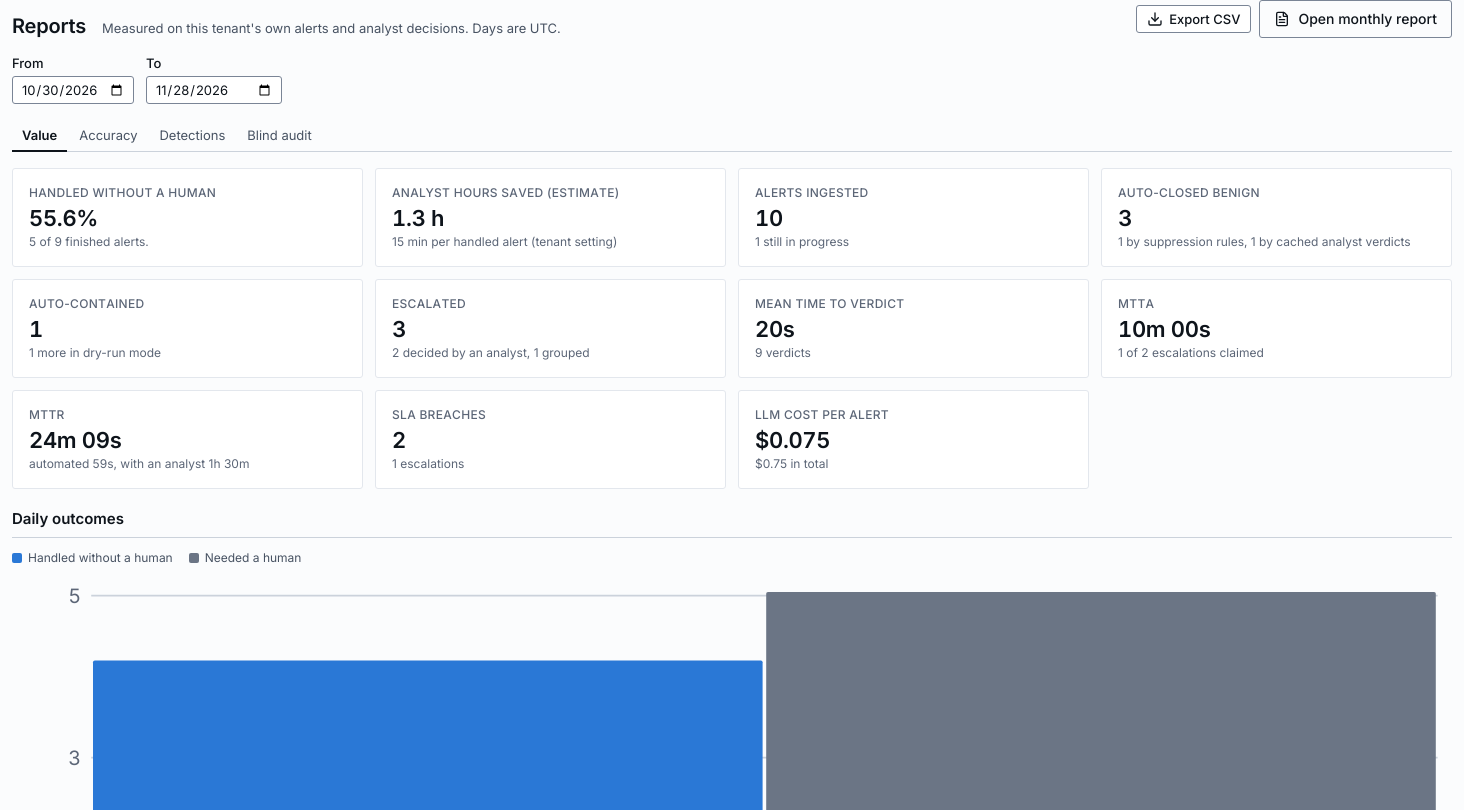
Test: ReportsPage › lets an analyst propose a suppression for a candidate detection
Click the tab "Detections": (192, 136) [149,120,235,152]
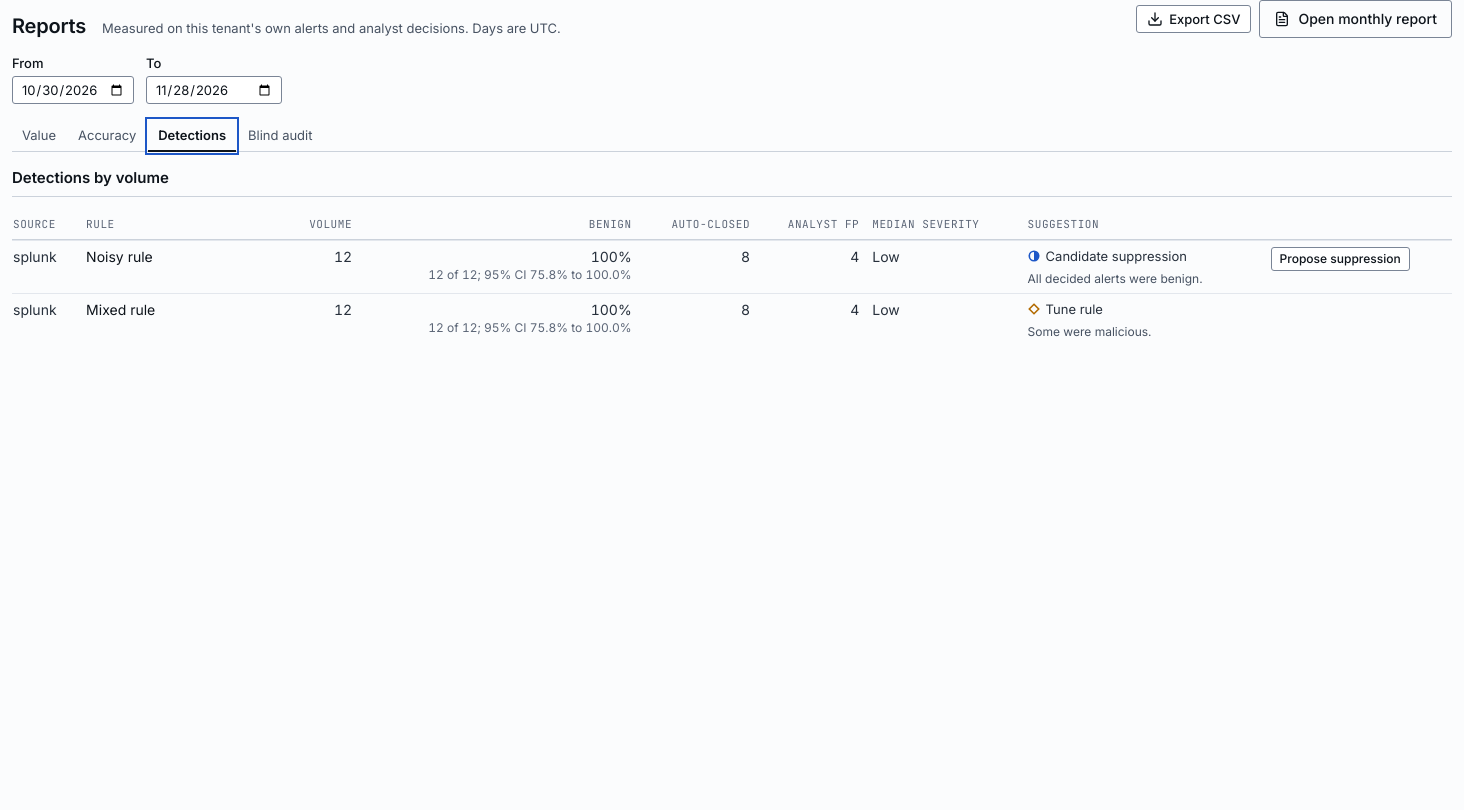
Click the button "Propose suppression": (1340, 259) [1271,247,1410,271]
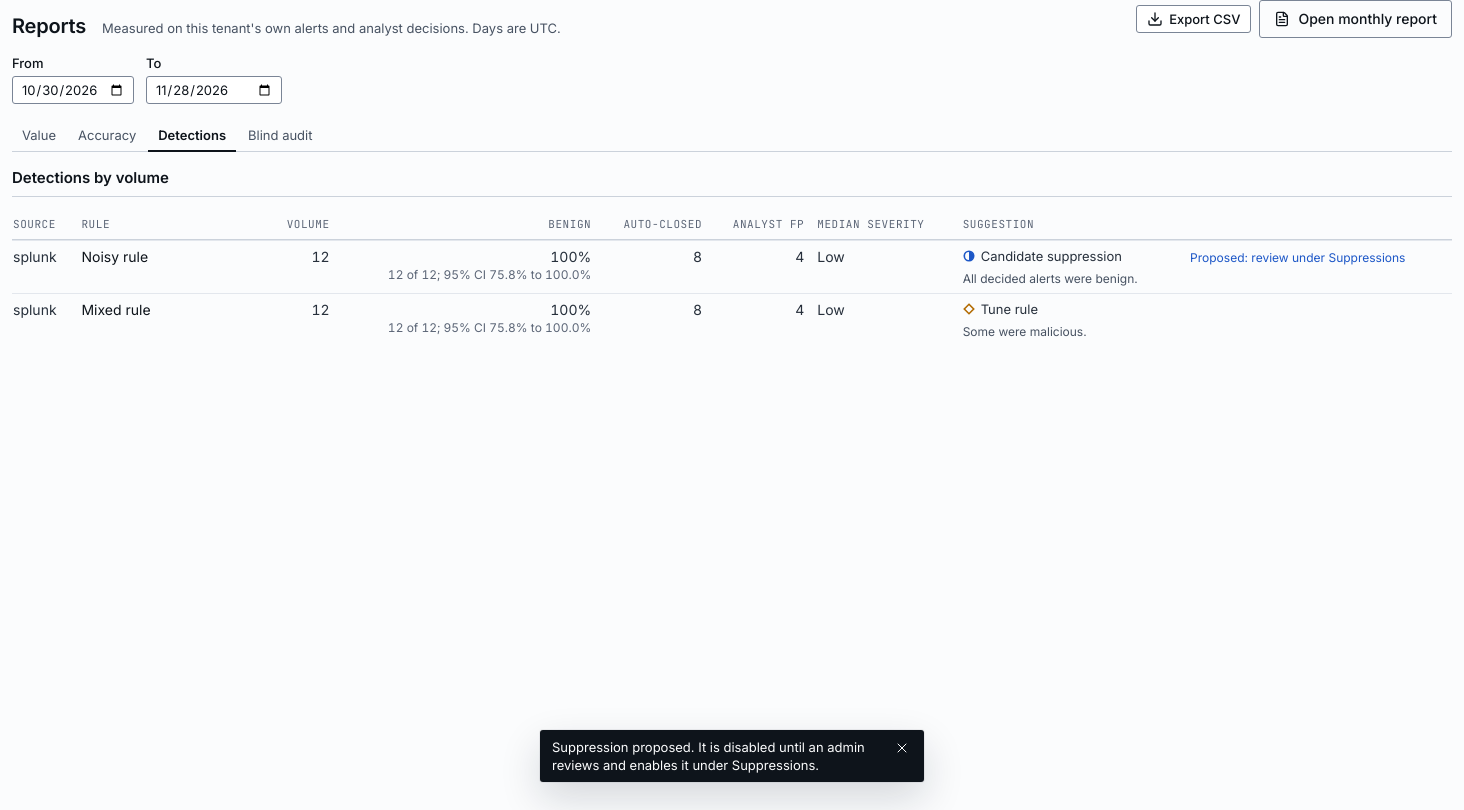
Check: the link "Proposed: review under Suppressions" is shown, box [1190,250,1406,265]
